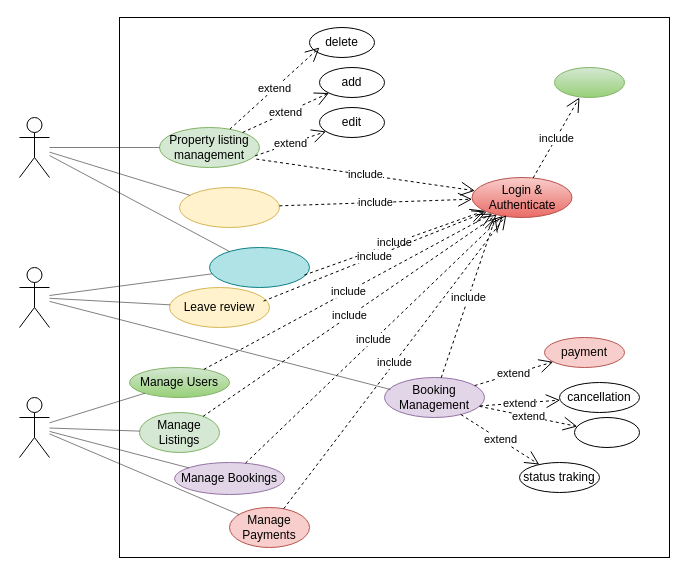
The diagram is 687 pixels wide and 575 high, and some of its shapes have lost their labels. Here are the shapes that lost their labels. From the top down, the centre of each, then its label:
At (x=589, y=82): "Register".
At (x=34, y=147): "Host".
At (x=229, y=207): "Respond to review".
At (x=259, y=267): "Manage profile".
At (x=34, y=297): "Guest".
At (x=34, y=427): "Admin".
At (x=607, y=432): "creation".
